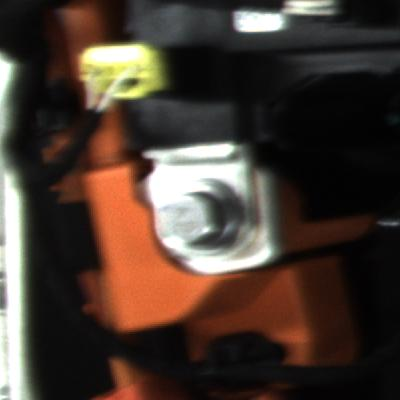nut_b: (153, 177, 256, 267)
